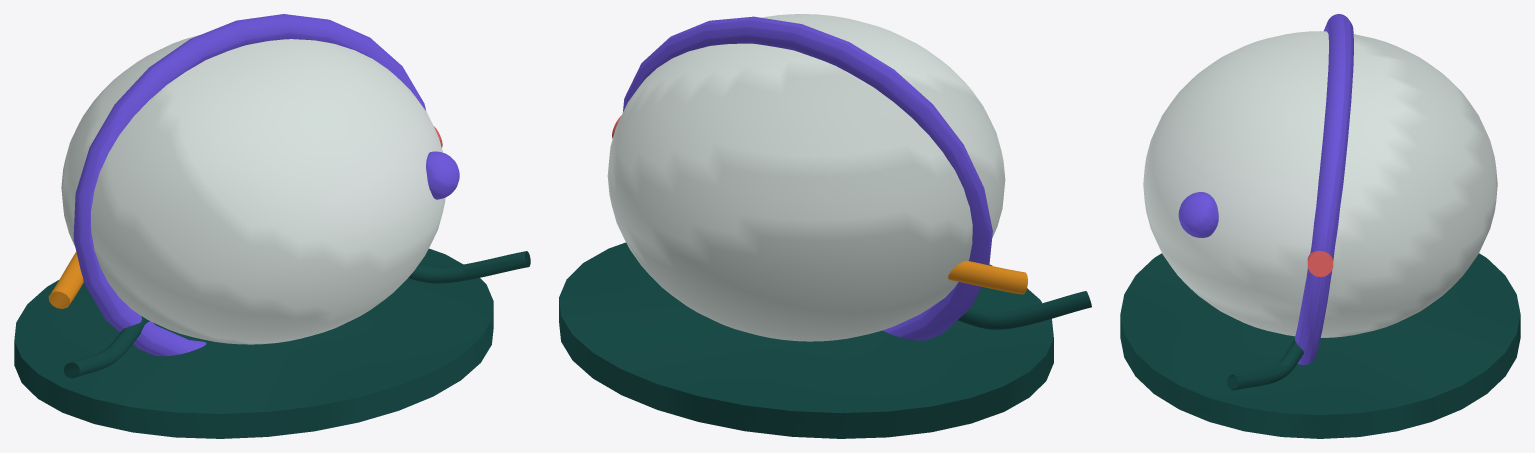
File: 1240_细胞图鉴_细胞核.glb
The picture shows the model from 3 angles, left to right: view 1: azimuth 30°, elevation 25°; view 2: azimuth 150°, elevation 25°; view 3: azimuth 270°, elevation 25°; orthographic projection. The views are drawn at different scales.
Visible parts, largest first — view 1: card_1240; view 2: card_1240; view 3: card_1240.
Part boxes in pixels (bbox=[...]): card_1240: bbox=[14, 14, 530, 438]; card_1240: bbox=[559, 14, 1091, 438]; card_1240: bbox=[1120, 14, 1520, 438].
Size of the model in its own units: 1.48 by 1 by 1.15.
